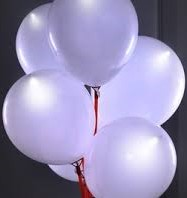Balloon: (2, 71, 95, 164), (49, 1, 139, 86), (85, 118, 177, 198)
